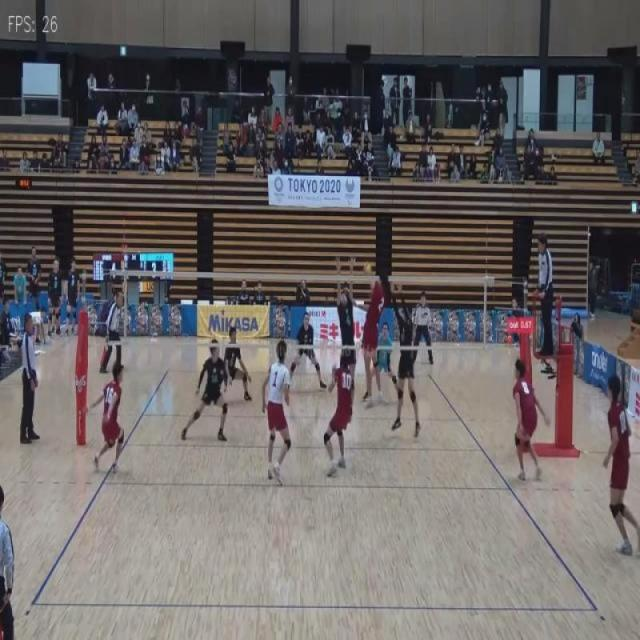volleyball: (363, 260, 373, 276)
